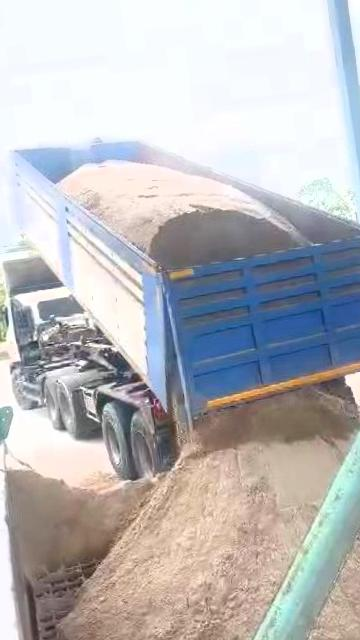sand: (62, 390, 357, 640), (59, 160, 307, 268), (8, 459, 151, 577), (299, 444, 360, 640), (20, 460, 120, 497), (358, 374, 360, 417)
